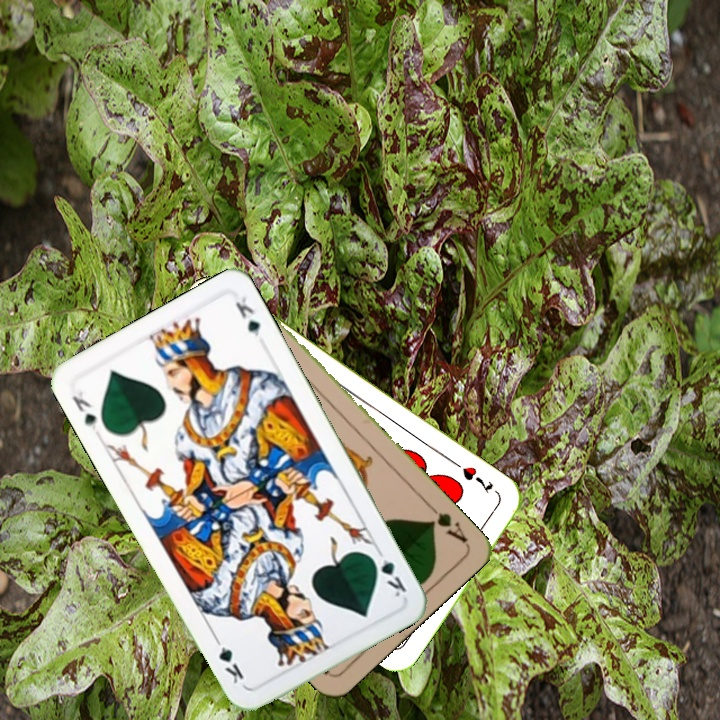GA: (423, 500, 470, 546)
GK: (366, 550, 410, 600), (68, 386, 99, 433)
H7: (450, 458, 496, 497)
